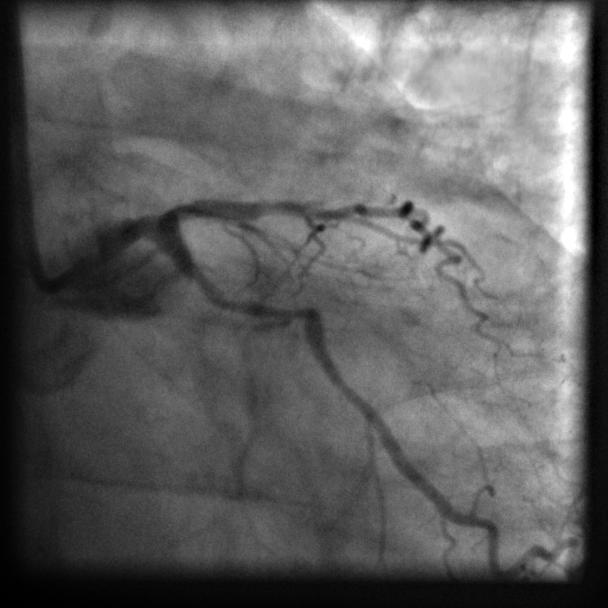Stenosis: (217, 289, 310, 329)
